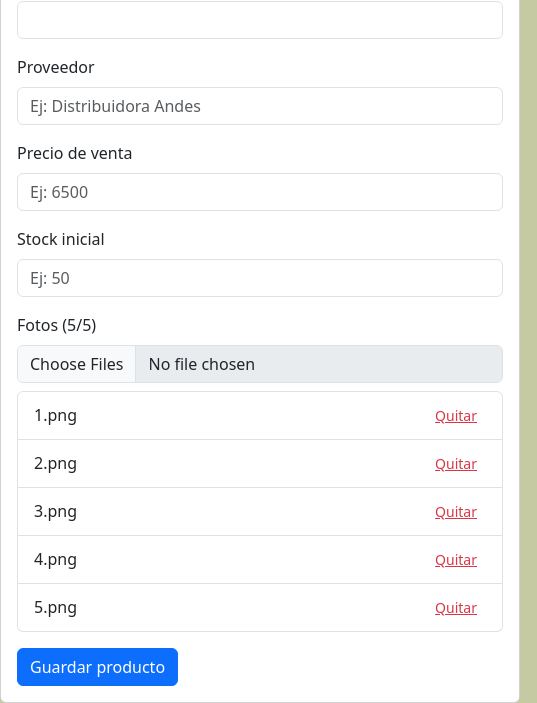
Scenario: product admin panels › AddProductPanel › lets the admin remove a chosen photo and blocks picking more than 5
Earlier steps of the test are not shown.
(page scrolled)
Check: the file field labelled "Fotos (5/5)" is disabled, box [17,344,503,382]
Step 1. Click the button "Quitar" in the row of "1.png" → (456, 415), box [426,400,486,430]
(page scrolled)
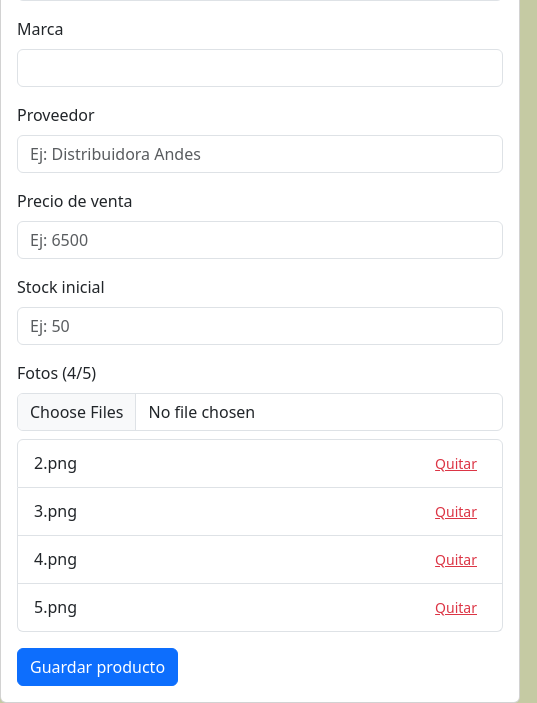
Check: the text "1.png" is gone
Check: the file field labelled "Fotos (4/5)" is enabled, box [17,392,503,430]
